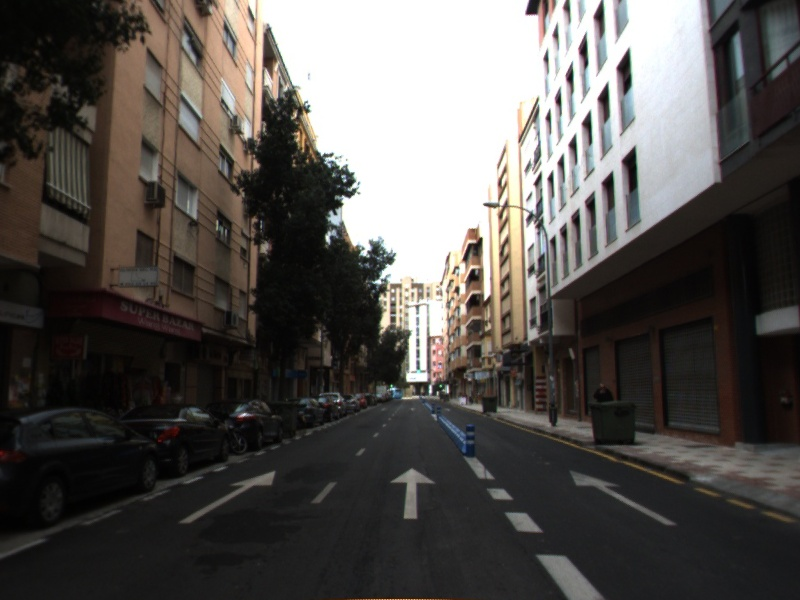STRAIGHT: (568, 468, 679, 527), (177, 469, 277, 525), (389, 466, 437, 520)
